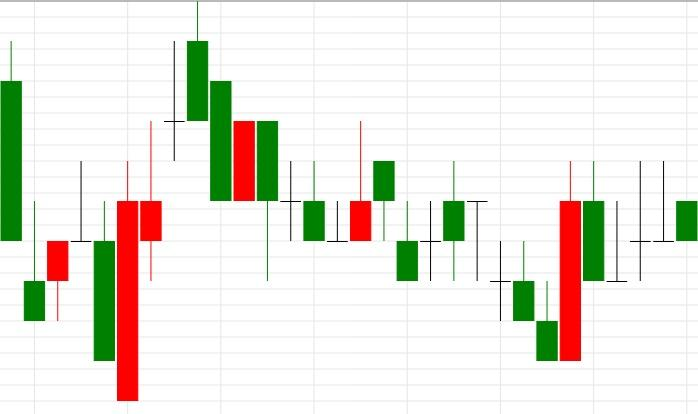bullish_engulfing_rise: (443, 160, 582, 362)
morning_star_rise: (186, 0, 373, 281)
